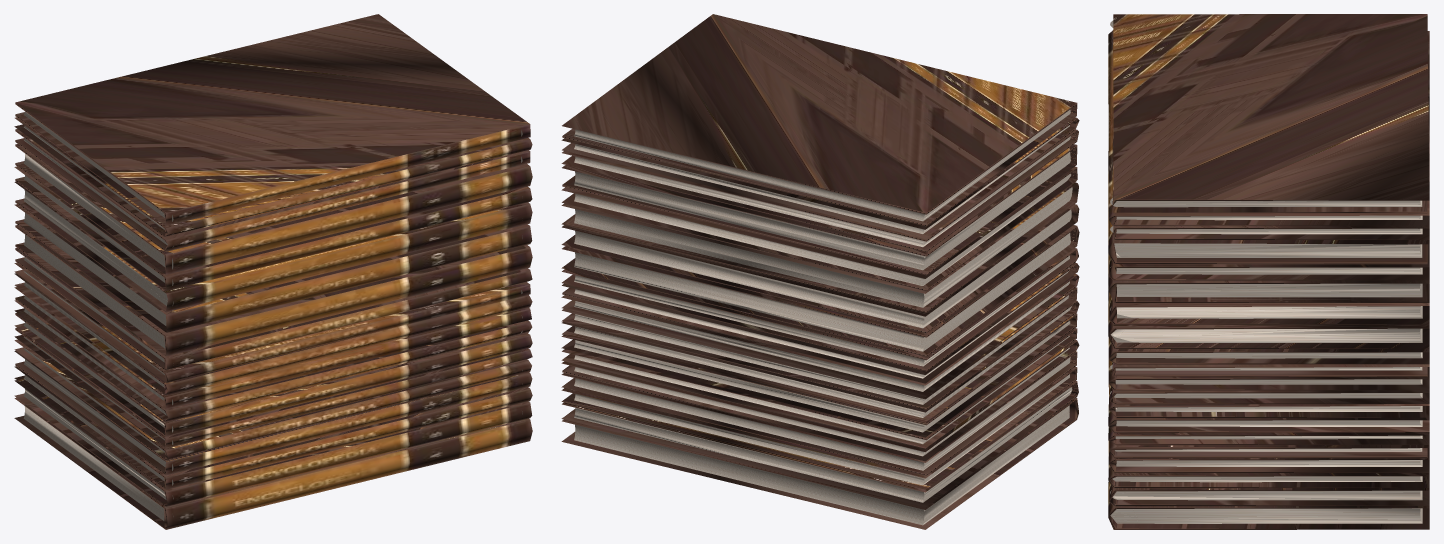
File: book_encyclopedia_set_01_lod2.glb
3 renders of one model, left to right at view 1: azimuth 30°, elevation 25°; view 2: azimuth 150°, elevation 25°; view 3: azimuth 270°, elevation 25°, orthographic. The views are drawn at different scales.
Visible parts, largest first — view 1: book_encyclopedia_set_01_book20, book_encyclopedia_set_01_book13, book_encyclopedia_set_01_book17, book_encyclopedia_set_01_book01, book_encyclopedia_set_01_book15, book_encyclopedia_set_01_book14, book_encyclopedia_set_01_book02, book_encyclopedia_set_01_book16, book_encyclopedia_set_01_book04, book_encyclopedia_set_01_book07, book_encyclopedia_set_01_book03, book_encyclopedia_set_01_book18 (+8 smaller); view 2: book_encyclopedia_set_01_book20, book_encyclopedia_set_01_book13, book_encyclopedia_set_01_book17, book_encyclopedia_set_01_book01, book_encyclopedia_set_01_book15, book_encyclopedia_set_01_book14, book_encyclopedia_set_01_book02, book_encyclopedia_set_01_book16, book_encyclopedia_set_01_book12, book_encyclopedia_set_01_book04, book_encyclopedia_set_01_book07, book_encyclopedia_set_01_book03 (+8 smaller); view 3: book_encyclopedia_set_01_book20, book_encyclopedia_set_01_book13, book_encyclopedia_set_01_book17, book_encyclopedia_set_01_book01, book_encyclopedia_set_01_book15, book_encyclopedia_set_01_book14, book_encyclopedia_set_01_book02, book_encyclopedia_set_01_book16, book_encyclopedia_set_01_book19, book_encyclopedia_set_01_book12, book_encyclopedia_set_01_book03, book_encyclopedia_set_01_book07 (+8 smaller).
Part boxes in pixels (bbox=[...]): book_encyclopedia_set_01_book20: bbox=[15, 14, 530, 225]; book_encyclopedia_set_01_book13: bbox=[15, 225, 532, 356]; book_encyclopedia_set_01_book17: bbox=[15, 144, 532, 274]; book_encyclopedia_set_01_book01: bbox=[14, 397, 532, 529]; book_encyclopedia_set_01_book15: bbox=[14, 181, 532, 312]; book_encyclopedia_set_01_book14: bbox=[14, 204, 532, 332]; book_encyclopedia_set_01_book02: bbox=[14, 380, 532, 506]; book_encyclopedia_set_01_book16: bbox=[14, 166, 532, 290]; book_encyclopedia_set_01_book04: bbox=[14, 351, 532, 475]; book_encyclopedia_set_01_book07: bbox=[14, 313, 532, 436]; book_encyclopedia_set_01_book03: bbox=[14, 366, 532, 489]; book_encyclopedia_set_01_book18: bbox=[15, 129, 530, 251]; book_encyclopedia_set_01_book20: bbox=[562, 14, 1077, 226]; book_encyclopedia_set_01_book13: bbox=[561, 225, 1079, 356]; book_encyclopedia_set_01_book17: bbox=[562, 144, 1077, 275]; book_encyclopedia_set_01_book01: bbox=[561, 398, 1078, 529]; book_encyclopedia_set_01_book15: bbox=[561, 182, 1078, 312]; book_encyclopedia_set_01_book14: bbox=[561, 204, 1079, 333]; book_encyclopedia_set_01_book02: bbox=[561, 381, 1078, 507]; book_encyclopedia_set_01_book16: bbox=[561, 166, 1077, 291]; book_encyclopedia_set_01_book12: bbox=[562, 248, 1078, 371]; book_encyclopedia_set_01_book04: bbox=[561, 351, 1077, 475]; book_encyclopedia_set_01_book07: bbox=[561, 313, 1077, 437]; book_encyclopedia_set_01_book03: bbox=[561, 366, 1077, 489]; book_encyclopedia_set_01_book20: bbox=[1110, 14, 1429, 213]; book_encyclopedia_set_01_book13: bbox=[1108, 151, 1429, 348]; book_encyclopedia_set_01_book17: bbox=[1108, 220, 1429, 264]; book_encyclopedia_set_01_book01: bbox=[1108, 441, 1429, 529]; book_encyclopedia_set_01_book15: bbox=[1108, 254, 1429, 303]; book_encyclopedia_set_01_book14: bbox=[1109, 292, 1429, 324]; book_encyclopedia_set_01_book02: bbox=[1109, 482, 1429, 506]; book_encyclopedia_set_01_book16: bbox=[1109, 244, 1429, 280]; book_encyclopedia_set_01_book19: bbox=[1108, 30, 1429, 225]; book_encyclopedia_set_01_book12: bbox=[1108, 337, 1429, 364]; book_encyclopedia_set_01_book03: bbox=[1108, 452, 1429, 488]; book_encyclopedia_set_01_book07: bbox=[1108, 404, 1429, 432].
Bounding box in the file's own units: 0.3 × 0.2497 × 0.22.
2 materials, 2 textured.
